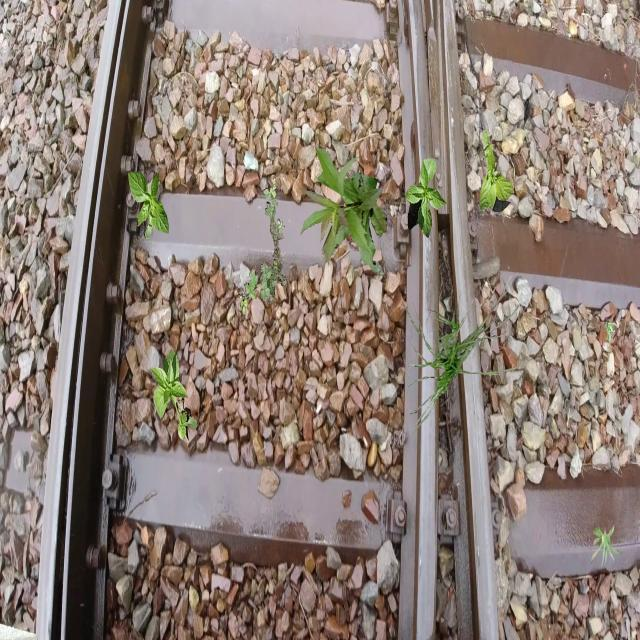Plant: (401, 274, 520, 438), (299, 147, 388, 277), (239, 177, 288, 315), (150, 349, 198, 444), (406, 158, 448, 238), (128, 169, 170, 240), (479, 129, 514, 212), (591, 524, 624, 570), (604, 322, 618, 342)
